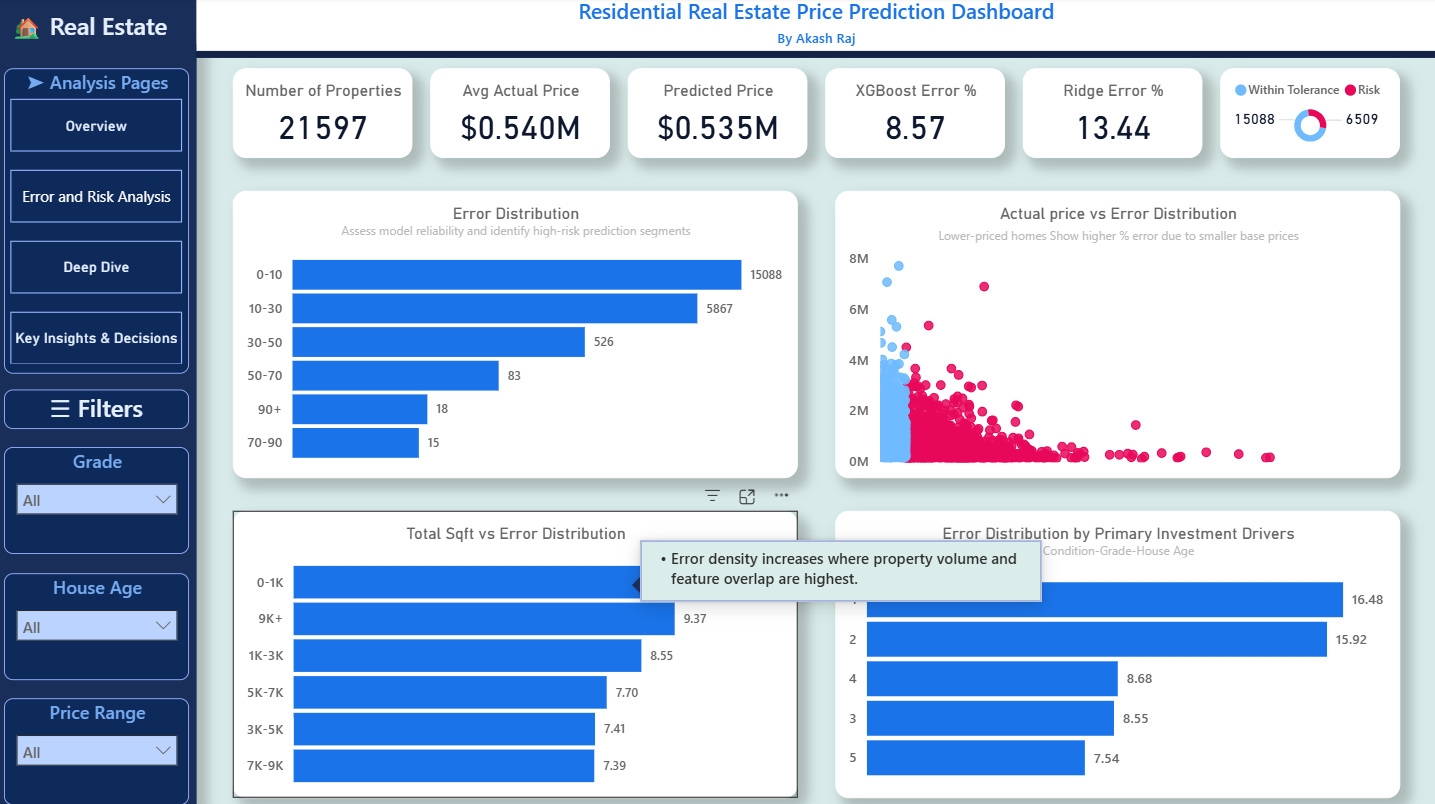

What the dashboard file says about the page in this screenshot:
{"tool":"tableau","page":{"name":"Error Analysis & Model Risk","canvas":[1000,1000],"units":"permille","ordinal":0},"visuals":[{"type":"worksheet","title":"Back 2","mark":"Automatic","box":[0,0,1000,1000]},{"type":"text","box":[47.4,27.8,902.3,47.2]},{"type":"dashboard-object","box":[54.1,33.3,111.3,38.9]},{"type":"filter","title":"Error % vs Price","param":"[federated.0pb6tqq0hun84y1cwjt1z028dbxy].[none:actual_price:qk]","box":[674.4,175,91,98.6]},{"type":"filter","title":"KPI Tiles","param":"[federated.0pb6tqq0hun84y1cwjt1z028dbxy].[none:grade:qk]","box":[766.9,175,91,98.6]},{"type":"filter","title":"KPI Tiles","param":"[federated.0pb6tqq0hun84y1cwjt1z028dbxy].[none:house_age:qk]","box":[859.4,175,91,98.6]},{"type":"worksheet","title":"KPI Tiles","mark":"Automatic","box":[49.6,176.4,581.2,98.6]},{"type":"blank","box":[166.9,176.4,2.3,97.2]},{"type":"blank","box":[281.9,176.4,2.3,97.2]},{"type":"blank","box":[397,176.4,2.3,97.2]},{"type":"blank","box":[512,176.4,2.3,97.2]},{"type":"worksheet","title":"Ridge Error % Distribution","mark":"Automatic","rows":["Calculation_0602830477926402"],"cols":["id"],"box":[674.4,373.6,272.9,244.4]},{"type":"worksheet","title":"Ridge Coefficient Effect","mark":"Automatic","box":[47.4,376.4,130.8,526.4]},{"type":"worksheet","title":"Price Map","mark":"Multipolygon","rows":["lat"],"cols":["long"],"box":[218.8,376.4,206.8,526.4]},{"type":"worksheet","title":"Error % vs Price","mark":"Automatic","rows":["xgb_error_pct"],"cols":["actual_price"],"box":[427.8,376.4,206.8,526.4]},{"type":"legend","title":"Error % vs Price","param":"[federated.0pb6tqq0hun84y1cwjt1z028dbxy].[none:Calculation_0458520059084800:nk]","box":[518.8,387.5,111.3,69.4]},{"type":"worksheet","title":"XGBoost Error % Distribution","mark":"Bar","rows":["Calculation_0602830478553091"],"cols":["id"],"box":[674.4,665.3,272.9,244.4]},{"type":"legend","title":"Price Map","param":"[federated.0pb6tqq0hun84y1cwjt1z028dbxy].[none:grade:qk]","box":[317.3,811.1,105.3,86.1]}]}

Visuals, with their boxes on the dashboard's canvas, which has no fixed pixel size, in thousandths of its width and height (x1, y1, x2, y2). These are canvas units, not pixel positions in the 1435x804 screenshot, which may show the page scaled, cropped or inside an application window:
"Back 2" worksheet: box=[0, 0, 1000, 1000]
text: box=[47, 28, 950, 75]
dashboard-object: box=[54, 33, 165, 72]
"Error % vs Price" filter: box=[674, 175, 765, 274]
"KPI Tiles" filter: box=[767, 175, 858, 274]
"KPI Tiles" filter: box=[859, 175, 950, 274]
"KPI Tiles" worksheet: box=[50, 176, 631, 275]
blank: box=[167, 176, 169, 274]
blank: box=[282, 176, 284, 274]
blank: box=[397, 176, 399, 274]
blank: box=[512, 176, 514, 274]
"Ridge Error % Distribution" worksheet: box=[674, 374, 947, 618]
"Ridge Coefficient Effect" worksheet: box=[47, 376, 178, 903]
"Price Map" worksheet (Multipolygon marks): box=[219, 376, 426, 903]
"Error % vs Price" worksheet: box=[428, 376, 635, 903]
"Error % vs Price" legend: box=[519, 388, 630, 457]
"XGBoost Error % Distribution" worksheet (Bar marks): box=[674, 665, 947, 910]
"Price Map" legend: box=[317, 811, 423, 897]
